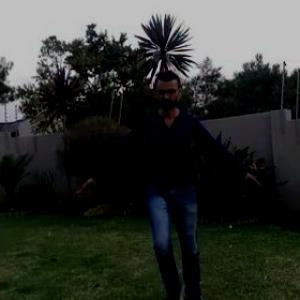land: (99, 36, 252, 292)
